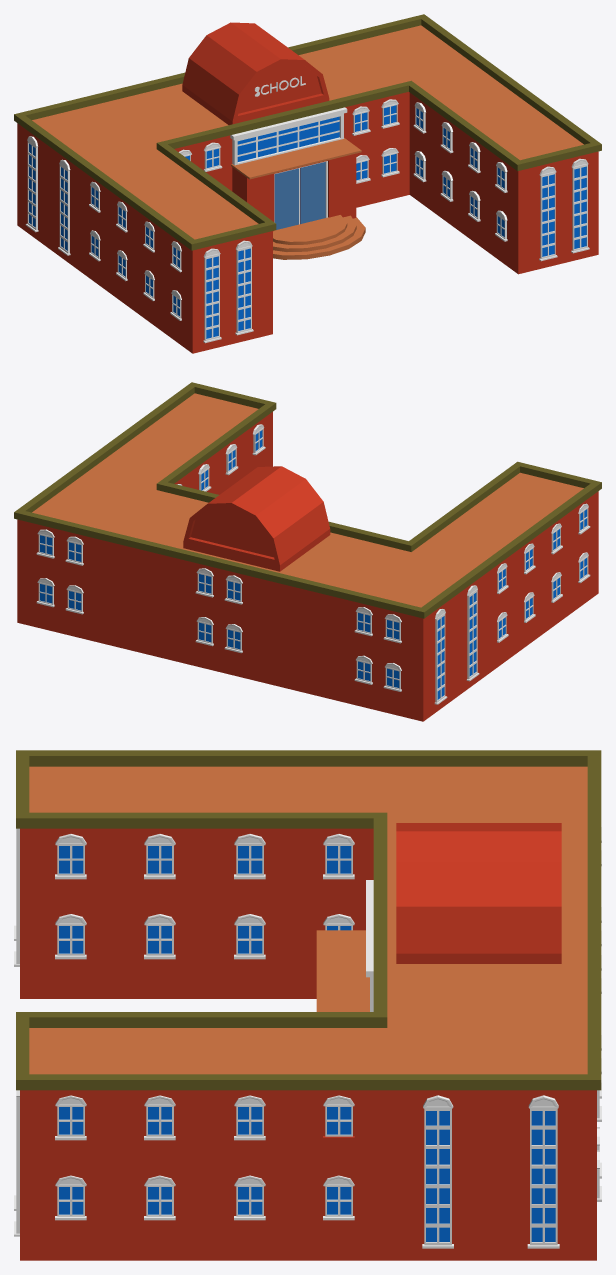
File: School_1.fbx
3 views of the same model, one above another, from view 1: azimuth 30°, elevation 25°; view 2: azimuth 150°, elevation 25°; view 3: azimuth 270°, elevation 25° (orthographic). The views are drawn at different scales.
Visible parts, largest first — view 1: School_1; view 2: School_1; view 3: School_1.
Part boxes in pixels (box(x1,y1,x2,y2)): School_1: box(14, 14, 601, 353); School_1: box(14, 382, 601, 721); School_1: box(14, 750, 601, 1260).
Bounding box in the file's own units: 2356 × 892 × 1765.
